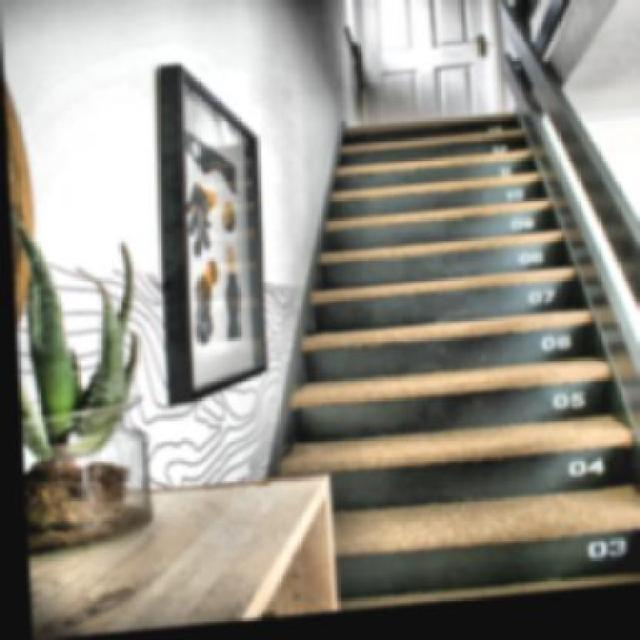stair: (283, 88, 639, 570)
